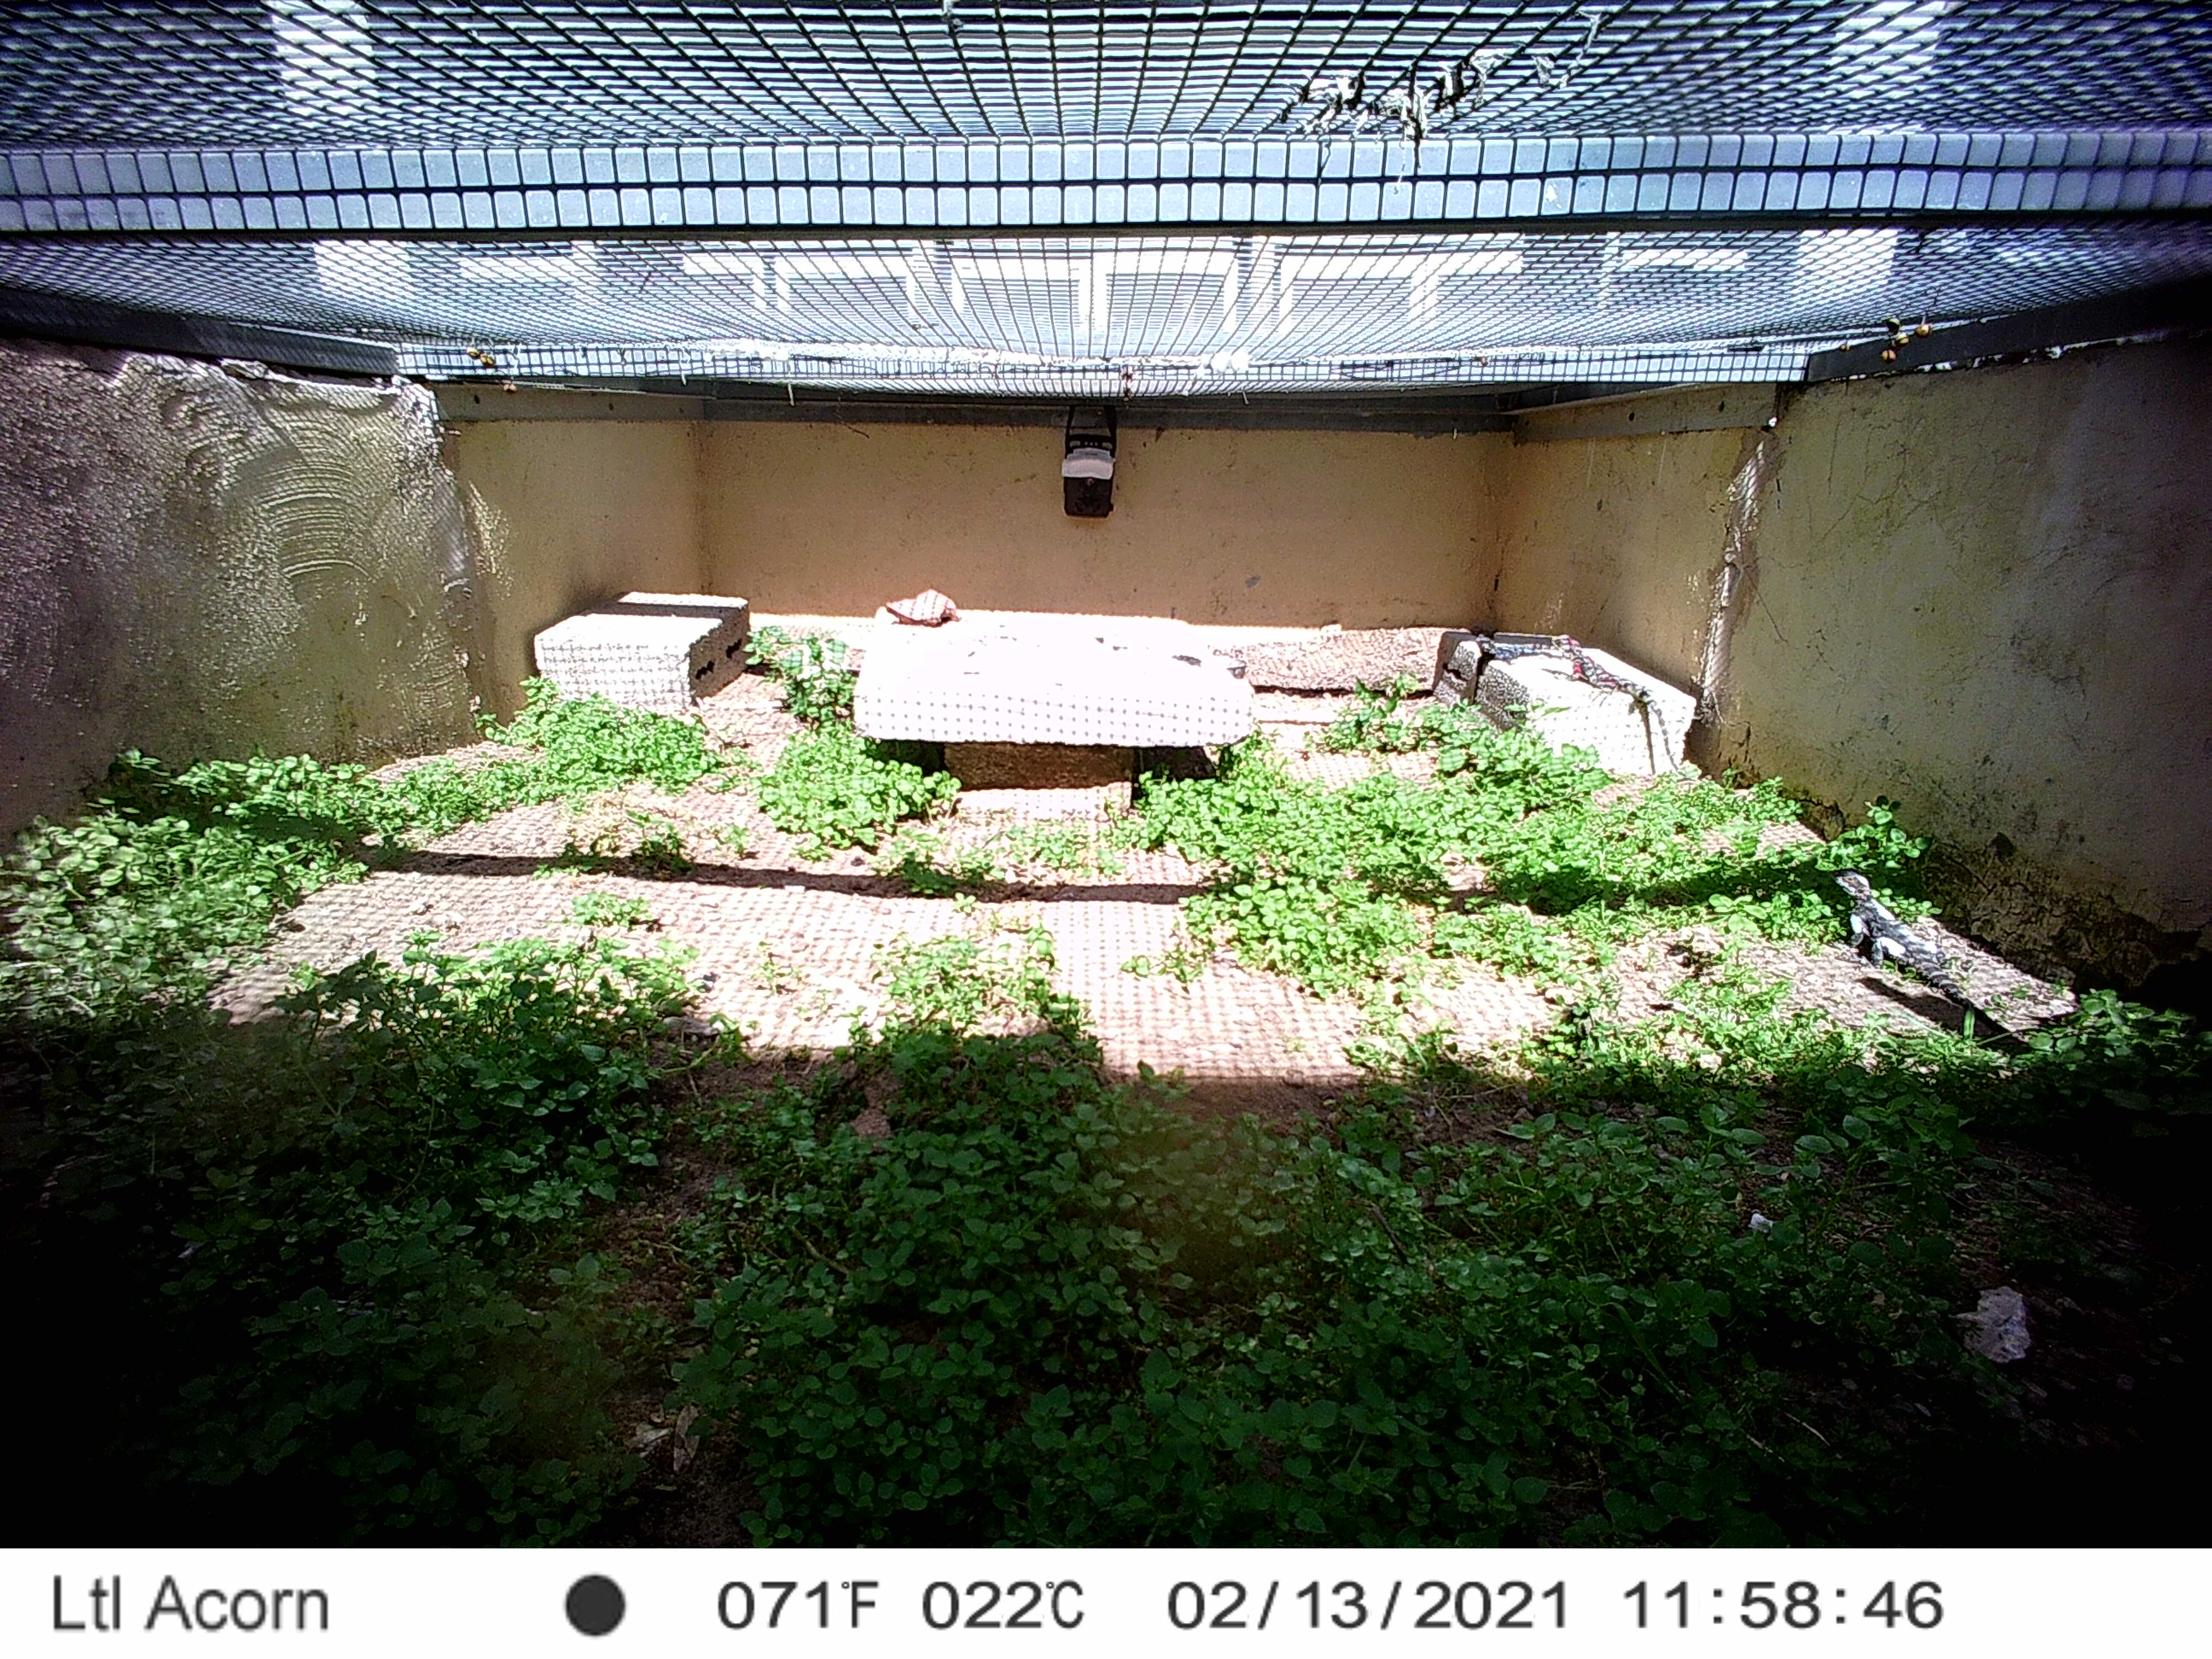lizard: (1831, 866, 2005, 1028), (1552, 633, 1688, 772), (1472, 629, 1550, 664)
